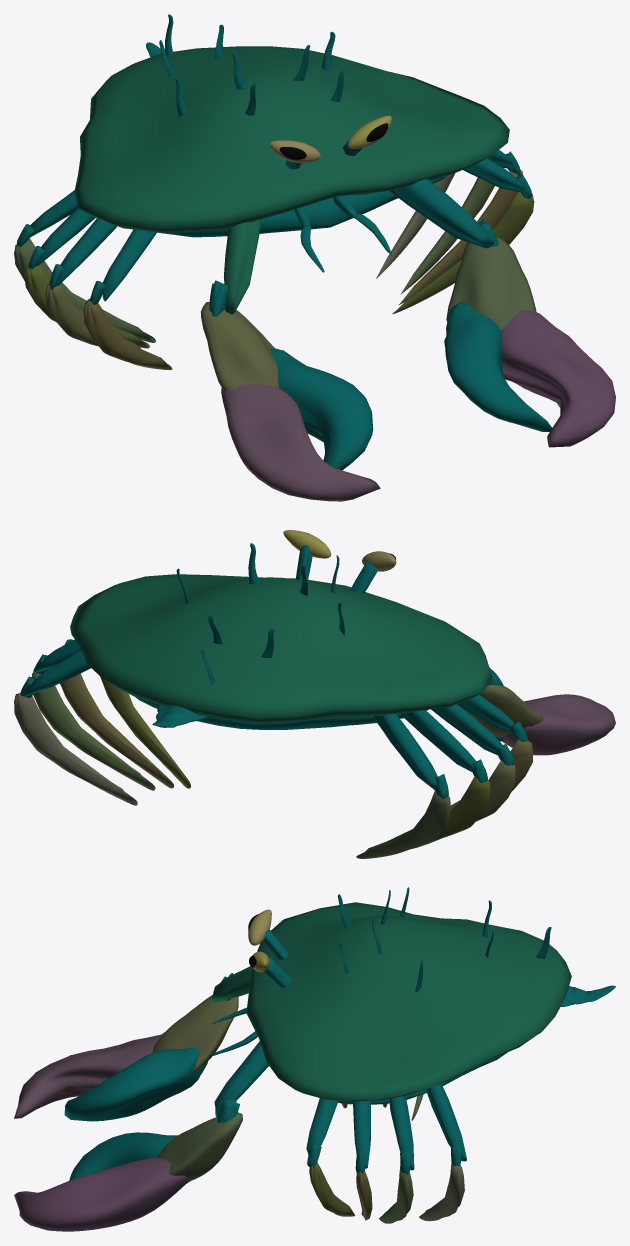
The model's file is crabe.fbx.
3 views of the same model, one above another, from view 1: azimuth 30°, elevation 25°; view 2: azimuth 150°, elevation 25°; view 3: azimuth 270°, elevation 25° (orthographic). The views are drawn at different scales.
Visible parts, largest first — view 1: corps crabe, pince gauche, pince droite, patte 1 droite, patte 1 gauche, patte 2 droite, patte 3 droite, patte 4 droite, patte 2 gauche, yeux crabe, patte 3 gauche, patte 4 gauche; view 2: corps crabe, pince droite, patte 4 gauche, patte 4 droite, patte 3 gauche, patte 3 droite, patte 2 droite, patte 2 gauche, yeux crabe, patte 1 droite, patte 1 gauche, queau; view 3: corps crabe, pince gauche, pince droite, patte 4 gauche, patte 3 gauche, patte 1 gauche, yeux crabe, patte 2 gauche, queau.
Boxes of the visible parts, bbox=[...] form: corps crabe: bbox=[74, 14, 509, 237]; pince gauche: bbox=[389, 179, 615, 447]; pince droite: bbox=[200, 219, 380, 501]; patte 1 droite: bbox=[83, 229, 172, 370]; patte 1 gauche: bbox=[392, 158, 534, 313]; patte 2 droite: bbox=[45, 218, 140, 348]; patte 3 droite: bbox=[24, 207, 149, 348]; patte 4 droite: bbox=[14, 190, 155, 342]; patte 2 gauche: bbox=[399, 150, 523, 304]; yeux crabe: bbox=[269, 115, 391, 169]; patte 3 gauche: bbox=[400, 177, 494, 294]; patte 4 gauche: bbox=[376, 173, 455, 278]; corps crabe: bbox=[70, 543, 492, 729]; pince droite: bbox=[461, 667, 615, 755]; patte 4 gauche: bbox=[14, 650, 137, 805]; patte 4 droite: bbox=[356, 714, 450, 858]; patte 3 gauche: bbox=[32, 639, 155, 790]; patte 3 droite: bbox=[400, 710, 490, 843]; patte 2 droite: bbox=[431, 704, 515, 821]; patte 2 gauche: bbox=[60, 639, 173, 788]; yeux crabe: bbox=[283, 530, 396, 593]; patte 1 droite: bbox=[450, 694, 533, 810]; patte 1 gauche: bbox=[100, 676, 190, 788]; queau: bbox=[152, 704, 216, 727]; corps crabe: bbox=[246, 887, 571, 1104]; pince gauche: bbox=[14, 1041, 268, 1231]; pince droite: bbox=[14, 966, 251, 1121]; patte 4 gauche: bbox=[419, 1083, 466, 1221]; patte 3 gauche: bbox=[379, 1096, 414, 1223]; patte 1 gauche: bbox=[306, 1098, 355, 1216]; yeux crabe: bbox=[248, 909, 291, 987]; patte 2 gauche: bbox=[353, 1101, 372, 1220]; queau: bbox=[560, 985, 615, 1006].
Size of the model in its own units: 3948 by 2242 by 4600.
